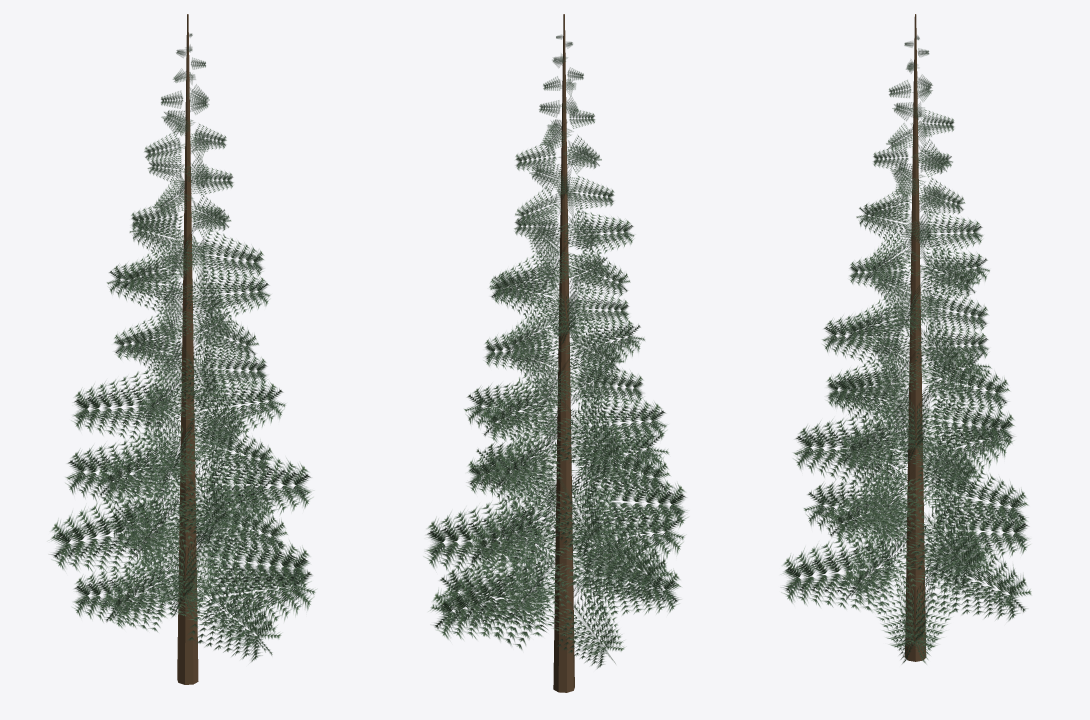
The model's file is spruce_near.glb.
The picture shows the model from 3 angles, left to right: view 1: azimuth 30°, elevation 25°; view 2: azimuth 150°, elevation 25°; view 3: azimuth 270°, elevation 25°; orthographic projection. The views are drawn at different scales.
Parts seen in each view (by area): view 1: Roadside_Spruce; view 2: Roadside_Spruce; view 3: Roadside_Spruce.
Boxes of the visible parts, <box> form: Roadside_Spruce: <box>48,14,316,684</box>; Roadside_Spruce: <box>423,14,688,692</box>; Roadside_Spruce: <box>781,14,1031,663</box>.
Bounding box in the file's own units: 0.469 × 1 × 0.4537.
2 materials, 1 textured.
